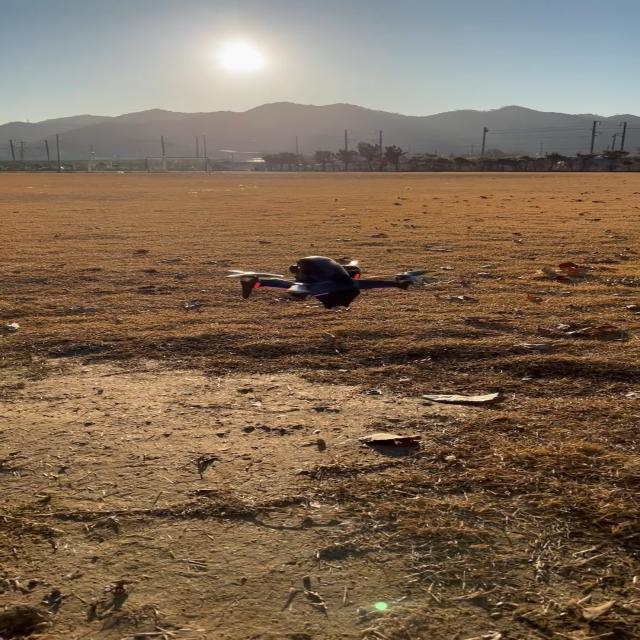drone: (224, 254, 434, 310)
